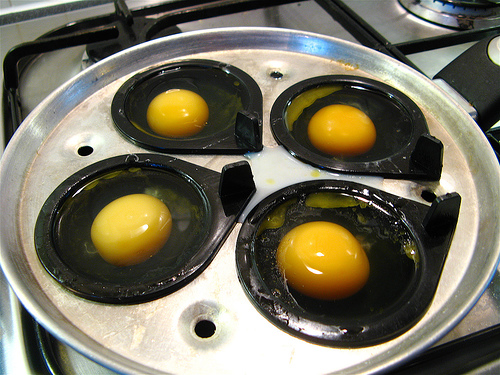egg: (277, 222, 372, 299), (89, 193, 174, 270), (310, 105, 376, 158), (145, 86, 211, 139)
